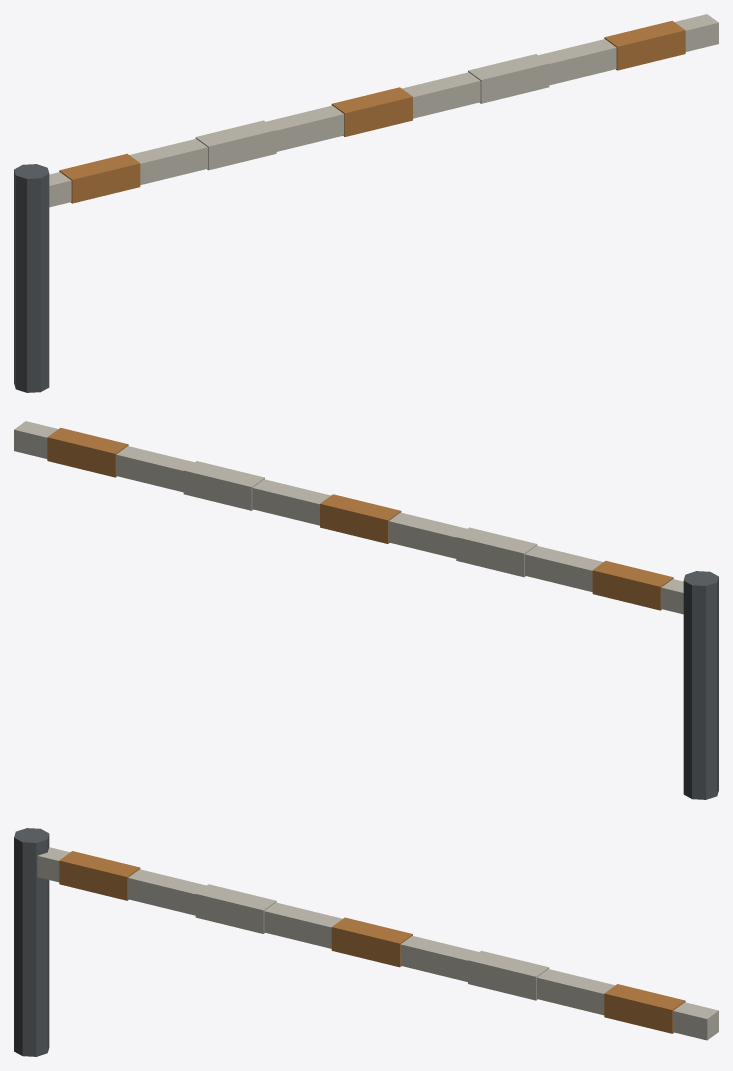
Rendered from checkpoint_boom.glb.
3 renders of one model, top to bottom at view 1: azimuth 30°, elevation 25°; view 2: azimuth 150°, elevation 25°; view 3: azimuth 330°, elevation 25°, orthographic.
Visible parts, largest first — view 1: boom, post, band3, band4, band0, band1, band2; view 2: boom, post, band3, band4, band0, band1, band2; view 3: boom, post, band2, band1, band4, band0, band3.
Part boxes in pixels (<box>): boom: <box>49,14,718,207</box>; post: <box>14,164,49,392</box>; band3: <box>468,54,549,103</box>; band4: <box>604,20,685,70</box>; band0: <box>59,153,140,203</box>; band1: <box>195,120,276,170</box>; band2: <box>331,87,412,136</box>; boom: <box>14,421,683,614</box>; post: <box>683,571,718,799</box>; band3: <box>183,461,264,510</box>; band4: <box>47,427,128,477</box>; band0: <box>592,560,673,610</box>; band1: <box>456,527,537,577</box>; band2: <box>320,494,401,543</box>; boom: <box>37,847,718,1040</box>; post: <box>14,828,49,1056</box>; band2: <box>331,917,412,967</box>; band1: <box>195,884,276,933</box>; band4: <box>604,984,685,1033</box>; band0: <box>59,851,140,900</box>; band3: <box>468,950,549,1000</box>.
Bounding box in the file's own units: 6.14 × 1.8 × 0.28.
